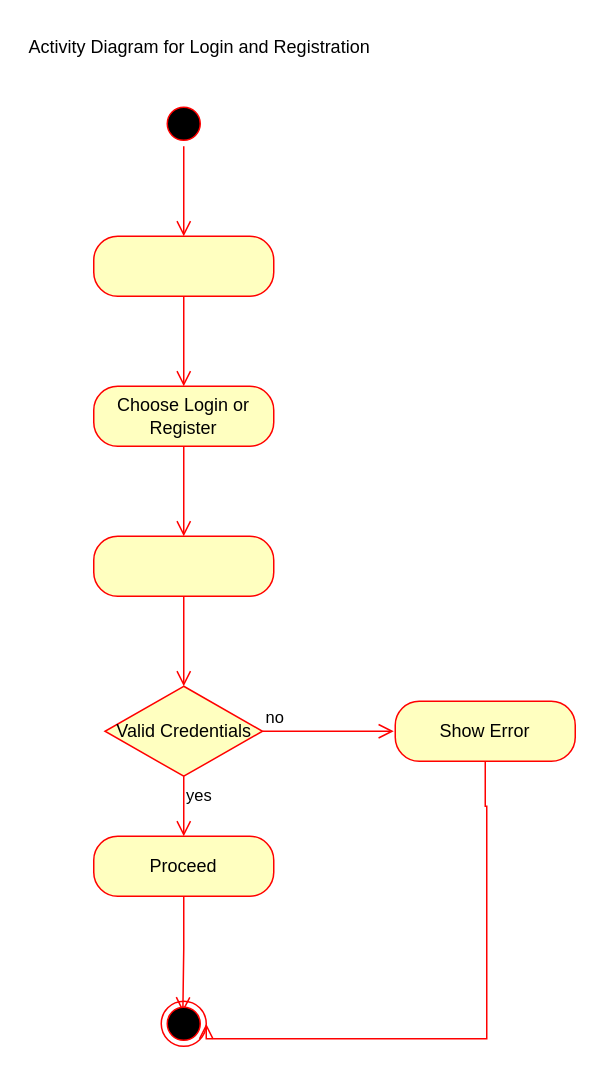
This 602x1080 diagram has some shape labels left out. Here are the shapes that lost their labels. From the top down, the centre of each, then its label:
At point 183,265: "User opens app".
At point 183,565: "Fills in Email/password".
